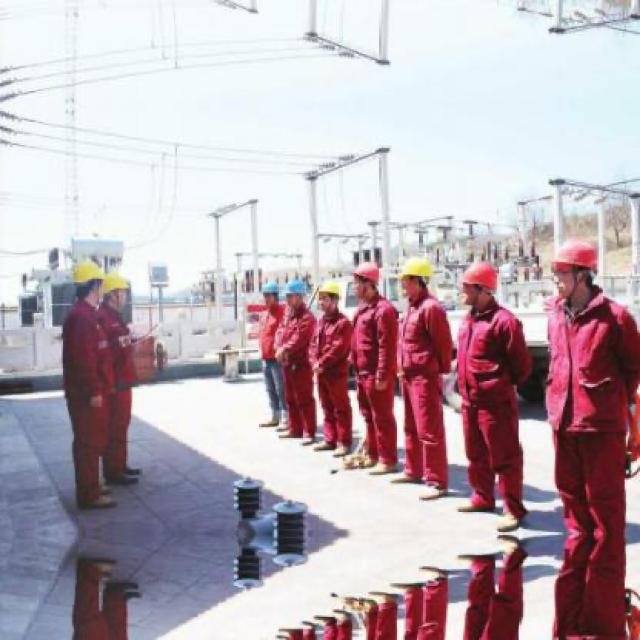con casco: (376, 168, 465, 324), (541, 218, 632, 332), (446, 242, 522, 333), (68, 255, 151, 320), (339, 254, 395, 318), (241, 275, 305, 311), (274, 275, 314, 311), (307, 284, 346, 319)
